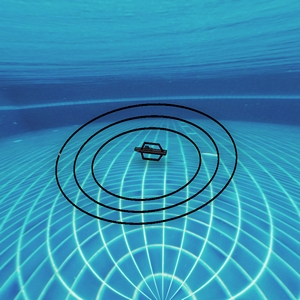circle: (40, 86, 244, 253)
submarine: (138, 143, 168, 162)
